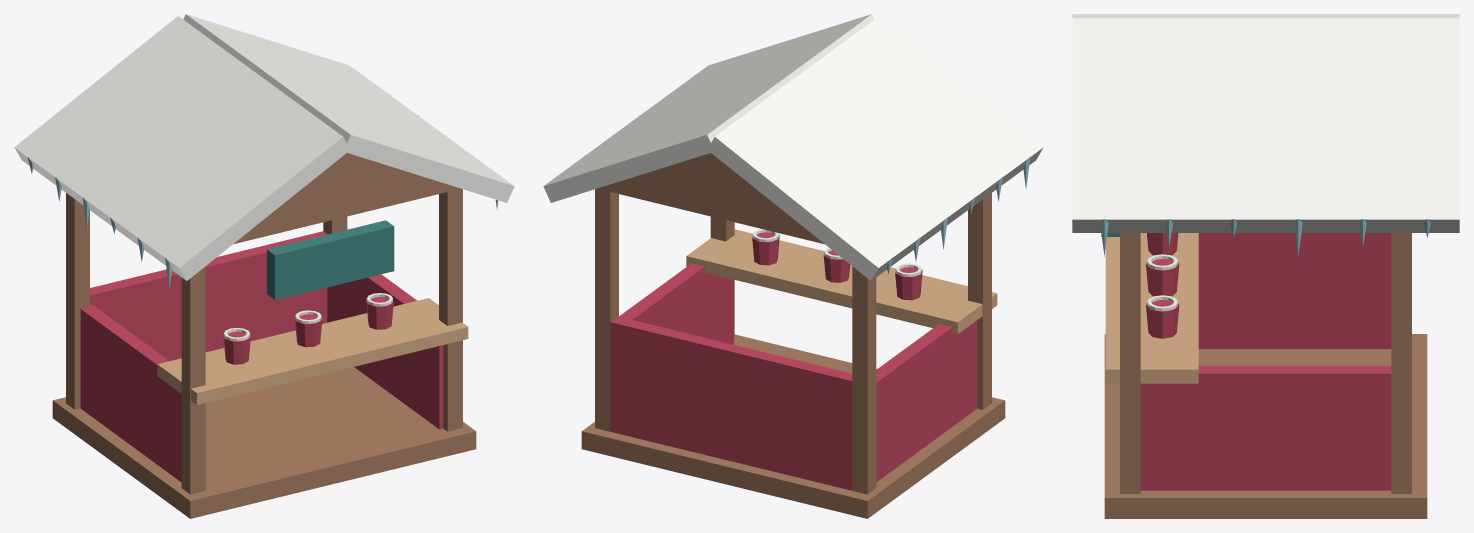
Rendered from cocoa.glb.
The picture shows the model from 3 angles, left to right: view 1: azimuth 30°, elevation 25°; view 2: azimuth 150°, elevation 25°; view 3: azimuth 270°, elevation 25°; orthographic projection. The views are drawn at different scales.
Parts seen in each view (by area): view 1: cocoa-market-stall-snow, cocoa-market-stall-wood, cocoa-market-stall-red, cocoa-market-stall-cedar, cocoa-market-stall-spruce, cocoa-market-stall-ice; view 2: cocoa-market-stall-snow, cocoa-market-stall-red, cocoa-market-stall-wood, cocoa-market-stall-cedar; view 3: cocoa-market-stall-snow, cocoa-market-stall-red, cocoa-market-stall-wood, cocoa-market-stall-cedar, cocoa-market-stall-ice.
Boxes of the visible parts, left/top/right/bottom form: cocoa-market-stall-snow: left=14, top=14, right=514, bottom=341; cocoa-market-stall-wood: left=52, top=153, right=476, bottom=518; cocoa-market-stall-red: left=80, top=231, right=443, bottom=482; cocoa-market-stall-cedar: left=157, top=298, right=468, bottom=404; cocoa-market-stall-spruce: left=267, top=220, right=394, bottom=299; cocoa-market-stall-ice: left=27, top=75, right=501, bottom=289; cocoa-market-stall-snow: left=543, top=14, right=1043, bottom=280; cocoa-market-stall-red: left=610, top=232, right=977, bottom=490; cocoa-market-stall-wood: left=581, top=153, right=1005, bottom=518; cocoa-market-stall-cedar: left=686, top=229, right=997, bottom=334; cocoa-market-stall-snow: left=1072, top=14, right=1459, bottom=311; cocoa-market-stall-red: left=1140, top=233, right=1391, bottom=490; cocoa-market-stall-wood: left=1104, top=233, right=1427, bottom=518; cocoa-market-stall-cedar: left=1105, top=233, right=1198, bottom=383; cocoa-market-stall-ice: left=1100, top=219, right=1430, bottom=256.
Bounding box in the file's own units: 3.53 × 3.6 × 3.
